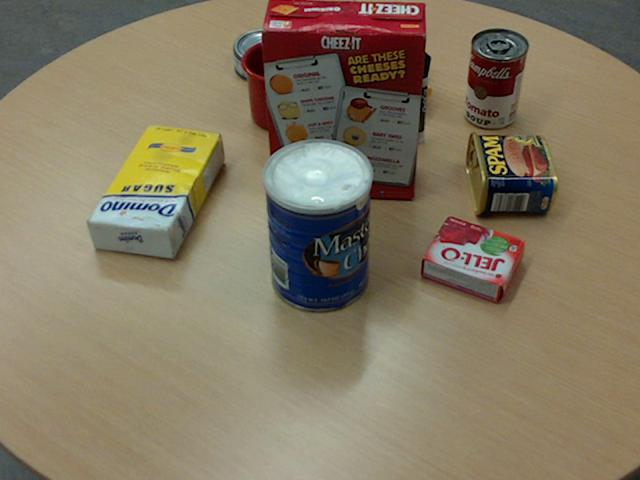cracker_box: (259, 0, 425, 197)
gelatin_box: (421, 215, 526, 301)
large_marker: (408, 52, 430, 142)
master_chef_can: (261, 138, 371, 312)
mug: (240, 38, 321, 131)
mustard_bottle: (305, 9, 431, 99)
potted_meat_can: (464, 131, 556, 214)
sugar_box: (85, 123, 222, 258)
tomato_soup_can: (464, 27, 528, 128)
tuna_fish_can: (232, 27, 296, 82)
